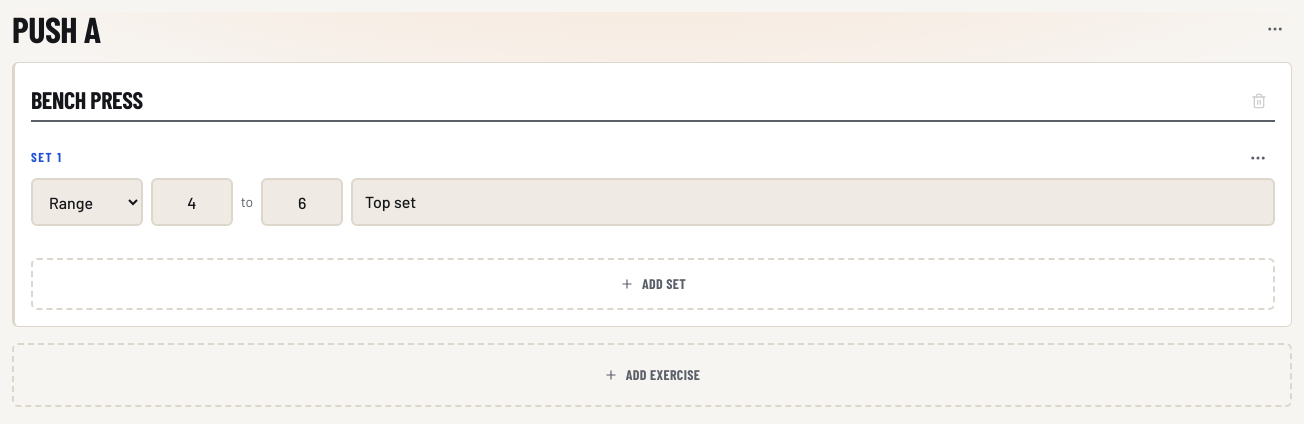
Test case: WorkoutEditor › leaves delete out of the day menu once the days are fixed
The width and height of the screenshot is (1304, 424).
Click the button named "Day options": (1275, 29) [1258,12,1292,46]
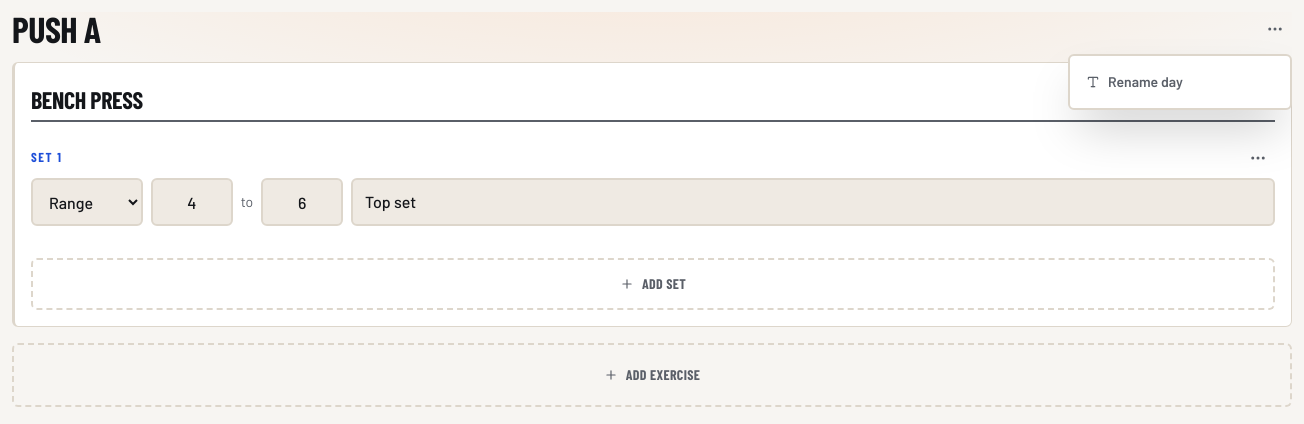
Expected: the button "Rename day" is shown, [1078,64,1282,100]
